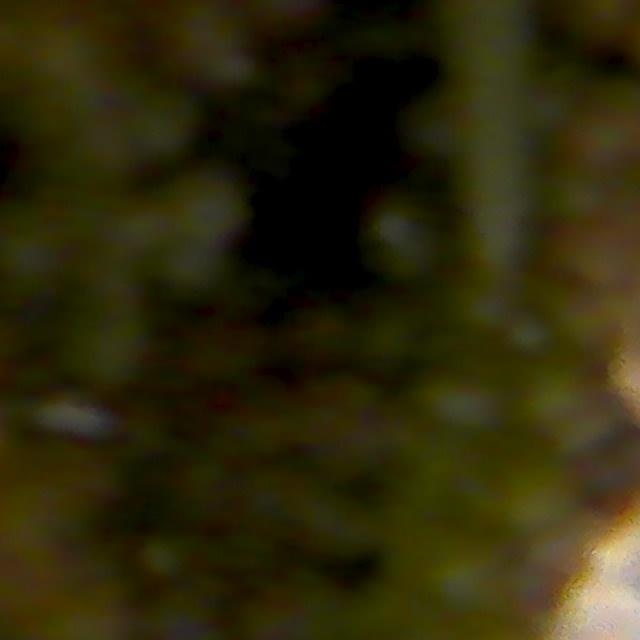SeaGrape: (426, 543, 509, 624), (544, 181, 630, 256), (363, 203, 441, 281), (500, 466, 581, 541), (172, 173, 247, 247), (429, 372, 507, 442), (521, 366, 593, 437), (593, 81, 640, 151), (503, 309, 558, 363), (456, 283, 511, 337), (579, 261, 631, 313)
